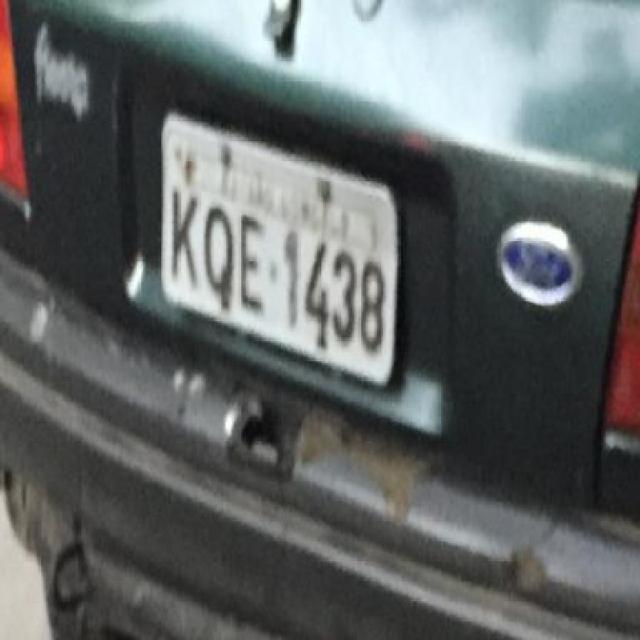old_plate: (155, 107, 405, 391)
